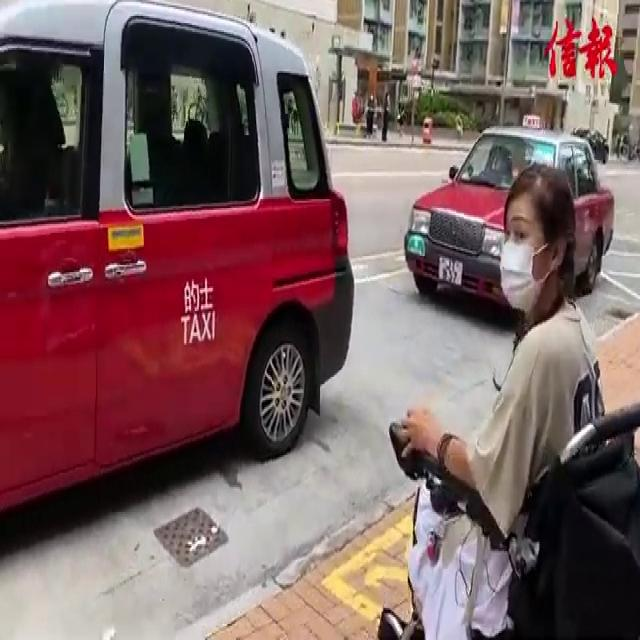wheelchairs: (377, 351, 640, 640)
